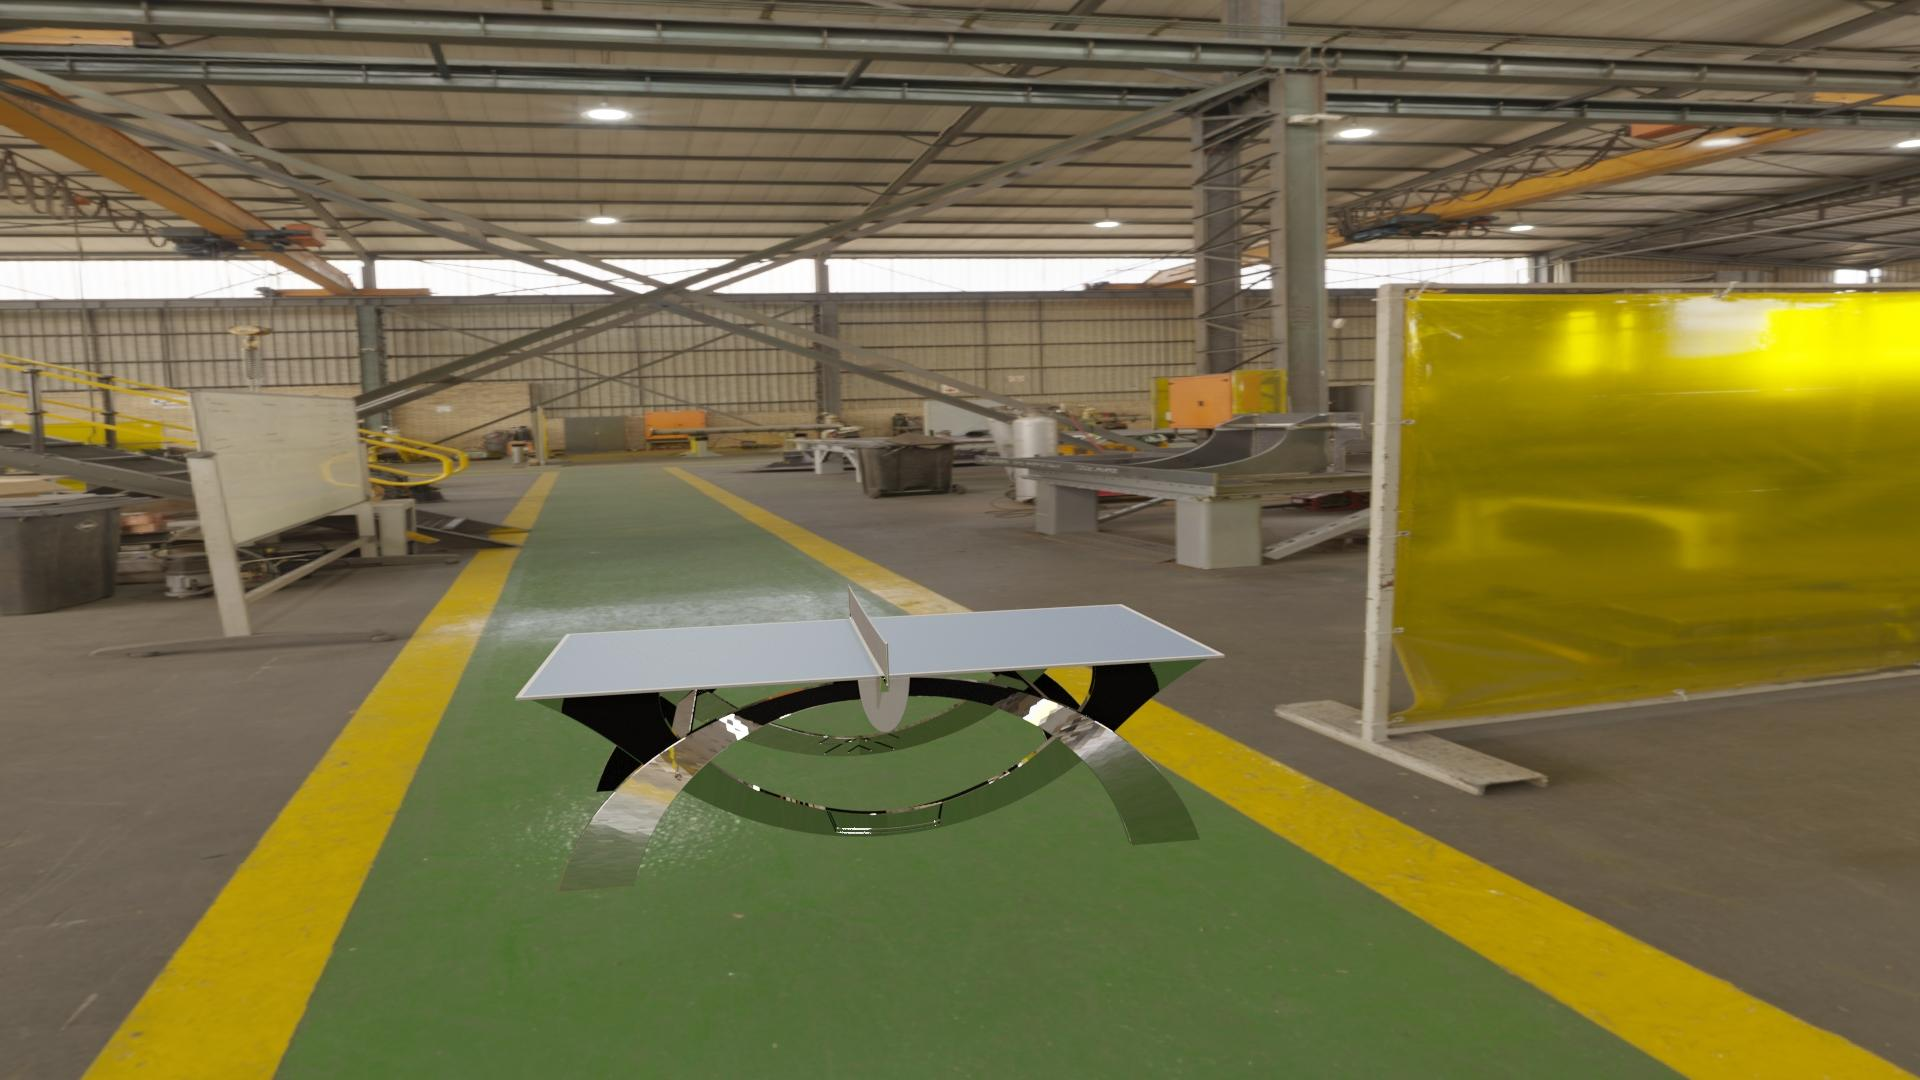table: (522, 605, 1218, 696)
